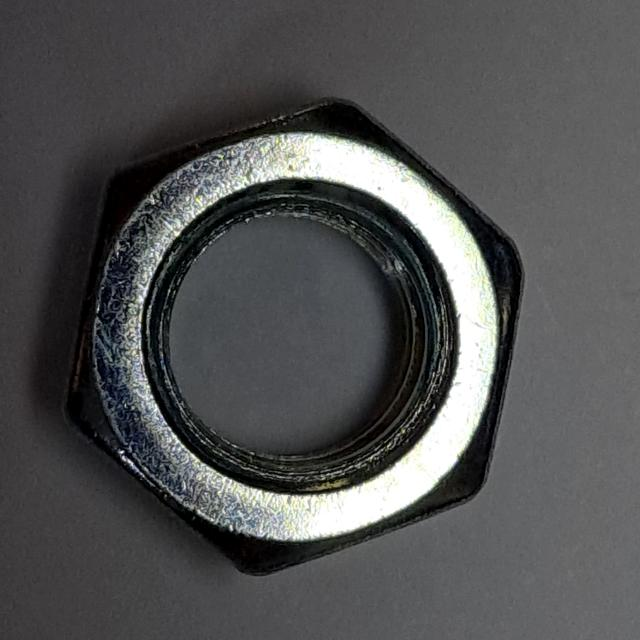Excellent: (49, 87, 535, 589)
